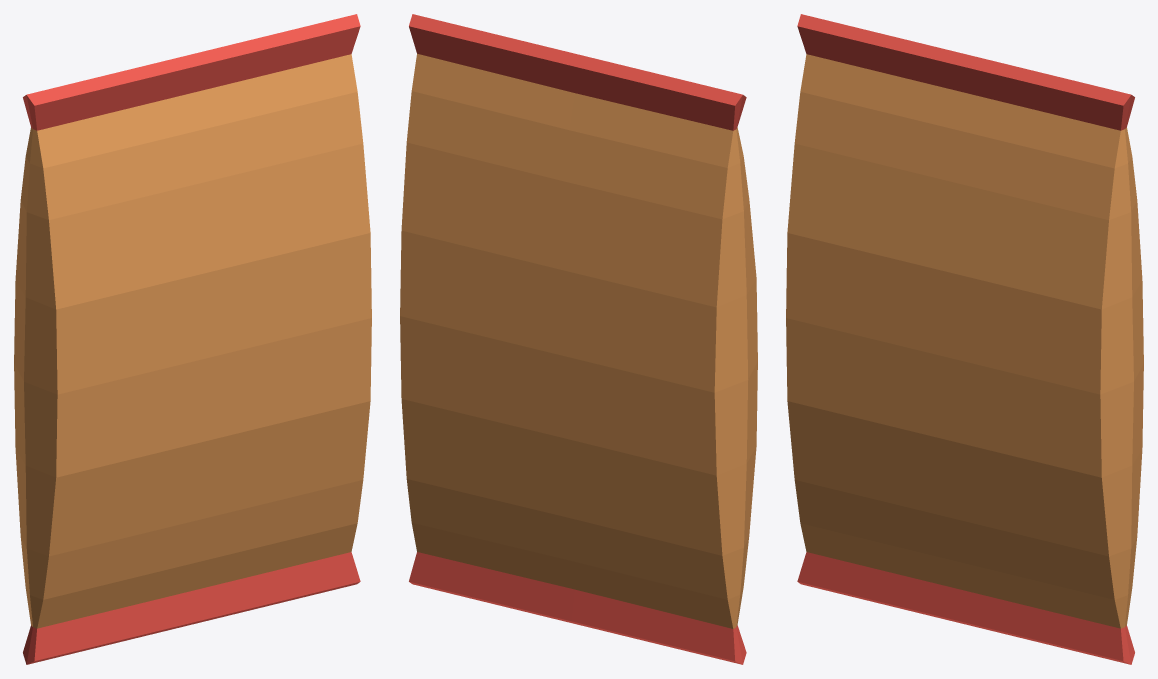
The model's file is mystery_boxblend.fbx.
The picture shows the model from 3 angles, left to right: view 1: azimuth 30°, elevation 25°; view 2: azimuth 150°, elevation 25°; view 3: azimuth 330°, elevation 25°; orthographic projection.
Parts seen in each view (by area): view 1: Plane; view 2: Plane; view 3: Plane.
Part boxes in pixels (left/top/right/bottom): Plane: left=14, top=14, right=371, bottom=664; Plane: left=400, top=14, right=757, bottom=664; Plane: left=786, top=14, right=1143, bottom=664.
Bounding box in the file's own units: 146 × 236 × 32.53.
